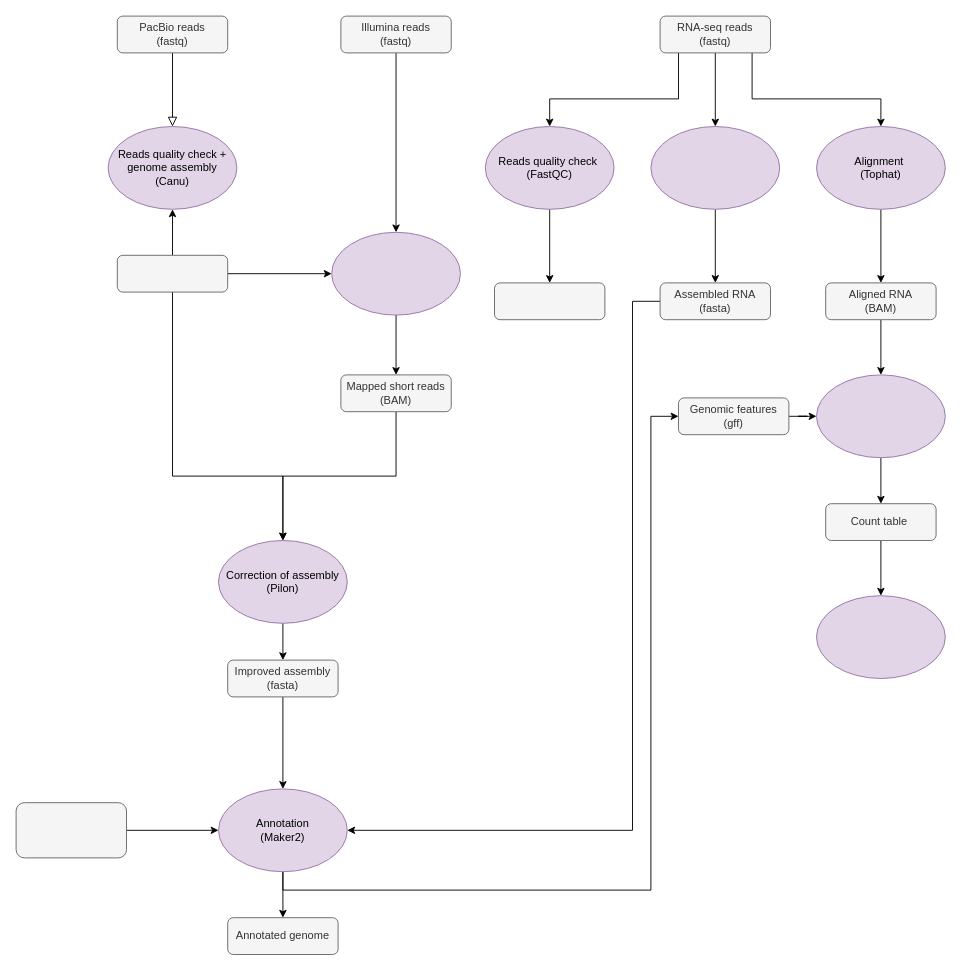
Some shapes in this 961 by 971 pixel diagram are drawn without their labels. Here are the shapes that lost their labels. From the top down, the centre of each, then its label:
point 715,167: Transcriptome assembly (Trinity)
point 172,273: Primary assembly (fasta)
point 395,273: Map short reads to referens genome (BWA)
point 549,301: Quality report (html)
point 880,416: Read counting (HTseq)
point 880,636: Differential expression analysis (DeSeq2)
point 70,830: Protein sequences from closely related species (fasta)
